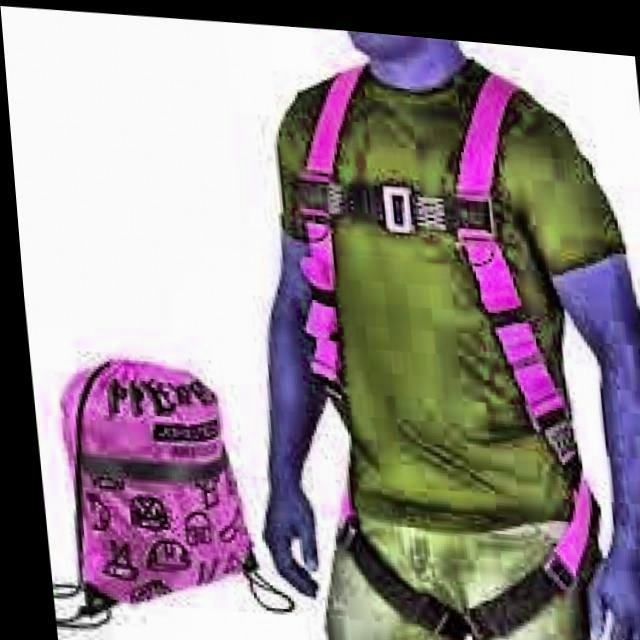safety belt: (261, 91, 603, 609)
